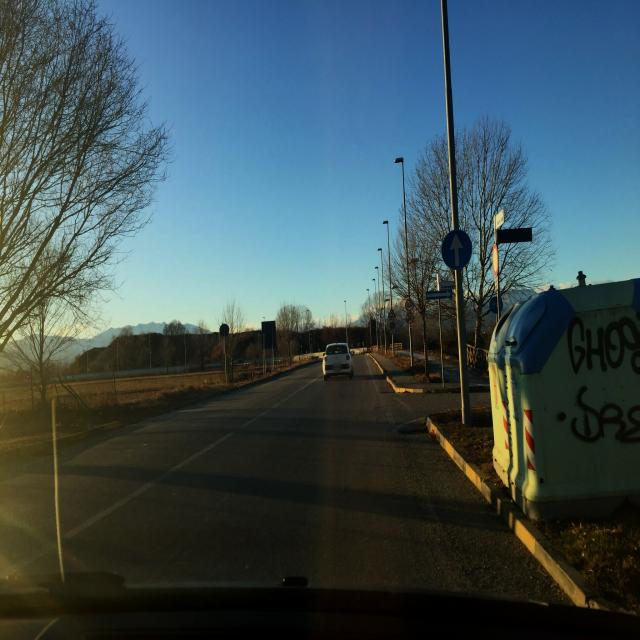car: (322, 342, 354, 380)
